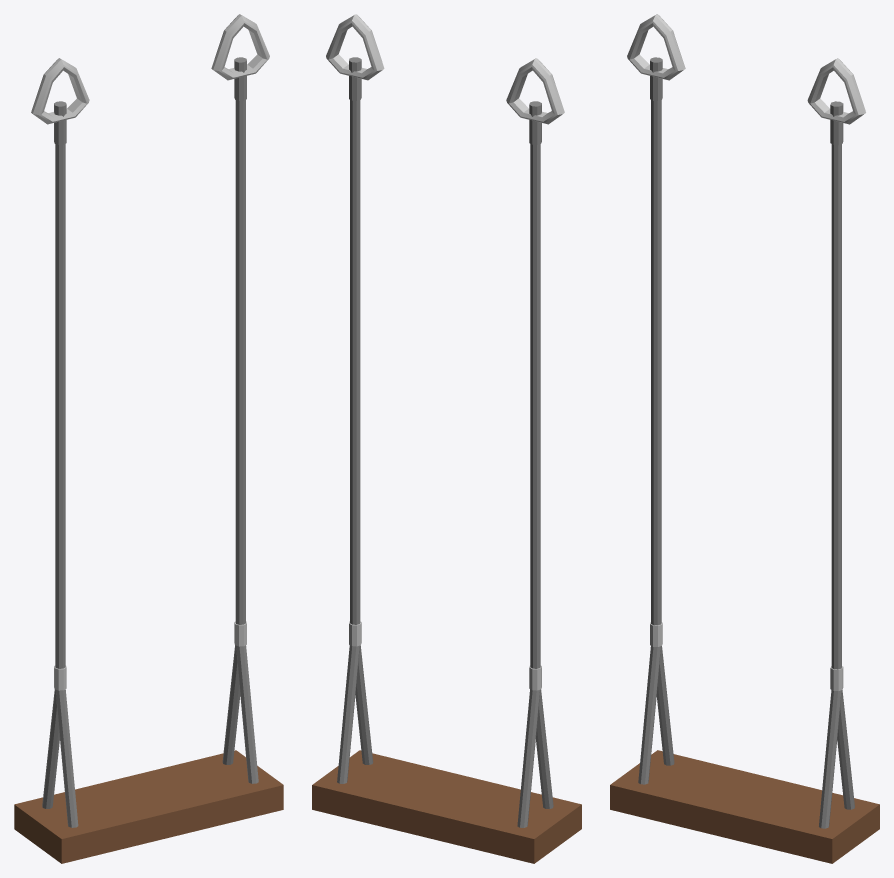
Rendered from swing seat.fbx.
The picture shows the model from 3 angles, left to right: view 1: azimuth 30°, elevation 25°; view 2: azimuth 150°, elevation 25°; view 3: azimuth 330°, elevation 25°; orthographic projection.
Parts seen in each view (by area): view 1: pCube15, pCylinder6, pCylinder1, pPipe2, pPipe1, pCylinder3, pCylinder4, pCylinder5, pCylinder2; view 2: pCube15, pCylinder6, pCylinder1, pPipe2, pPipe1, pCylinder5, pCylinder2, pCylinder3, pCylinder4; view 3: pCube15, pCylinder1, pCylinder6, pPipe1, pPipe2, pCylinder4, pCylinder3, pCylinder5, pCylinder2.
Part boxes in pixels (x1,y1,x2,y2): pCube15: (14,750,283,863); pCylinder6: (54,101,66,690); pCylinder1: (234,57,246,646); pPipe2: (31,58,89,124); pPipe1: (211,14,269,80); pCylinder3: (236,645,258,783); pCylinder4: (56,689,78,827); pCylinder5: (42,689,59,808); pCylinder2: (222,645,240,764); pCube15: (312,750,581,863); pCylinder6: (529,101,541,690); pCylinder1: (349,57,361,646); pPipe2: (506,58,564,124); pPipe1: (326,14,384,80); pCylinder5: (517,689,539,827); pCylinder2: (337,645,359,783); pCylinder3: (355,645,373,764); pCylinder4: (536,689,553,808); pCube15: (610,750,879,863); pCylinder1: (830,101,843,690); pCylinder6: (650,57,662,646); pPipe1: (807,58,865,124); pPipe2: (627,14,685,80); pCylinder4: (638,646,660,784); pCylinder3: (819,690,841,828); pCylinder5: (656,646,674,765); pCylinder2: (837,690,854,809).
Bounding box in the file's own units: 2.52 × 7.93 × 0.8734.
